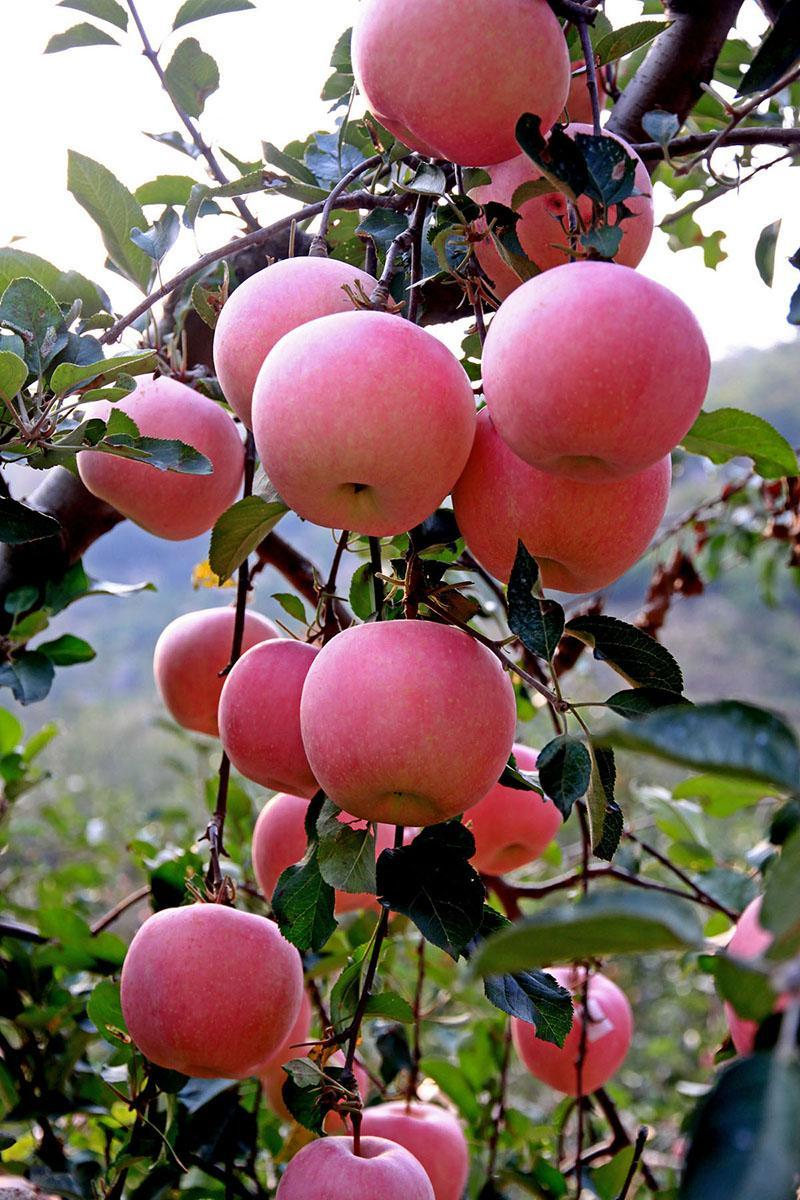apple: (253, 309, 478, 544), (477, 258, 712, 470), (298, 619, 519, 834), (357, 1, 590, 192), (458, 412, 669, 594), (113, 899, 307, 1085), (467, 117, 661, 303), (76, 378, 239, 542), (216, 635, 344, 790), (509, 962, 637, 1096), (153, 601, 281, 735)
